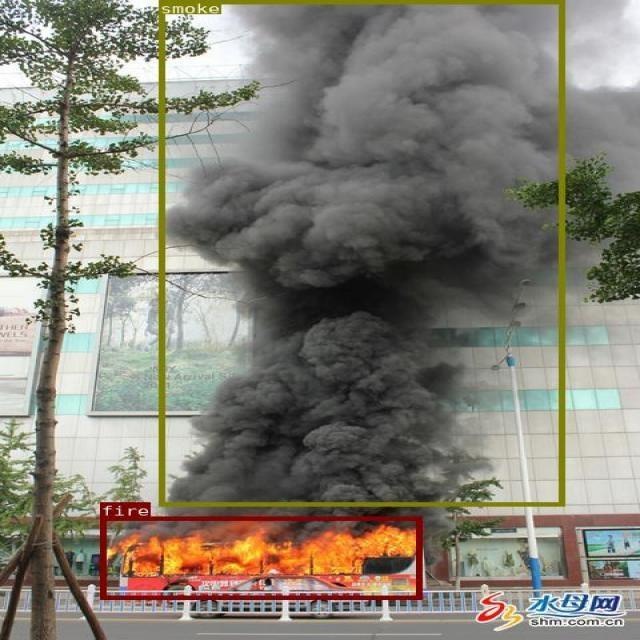fire: (100, 516, 421, 598)
smoke: (158, 0, 563, 505)
